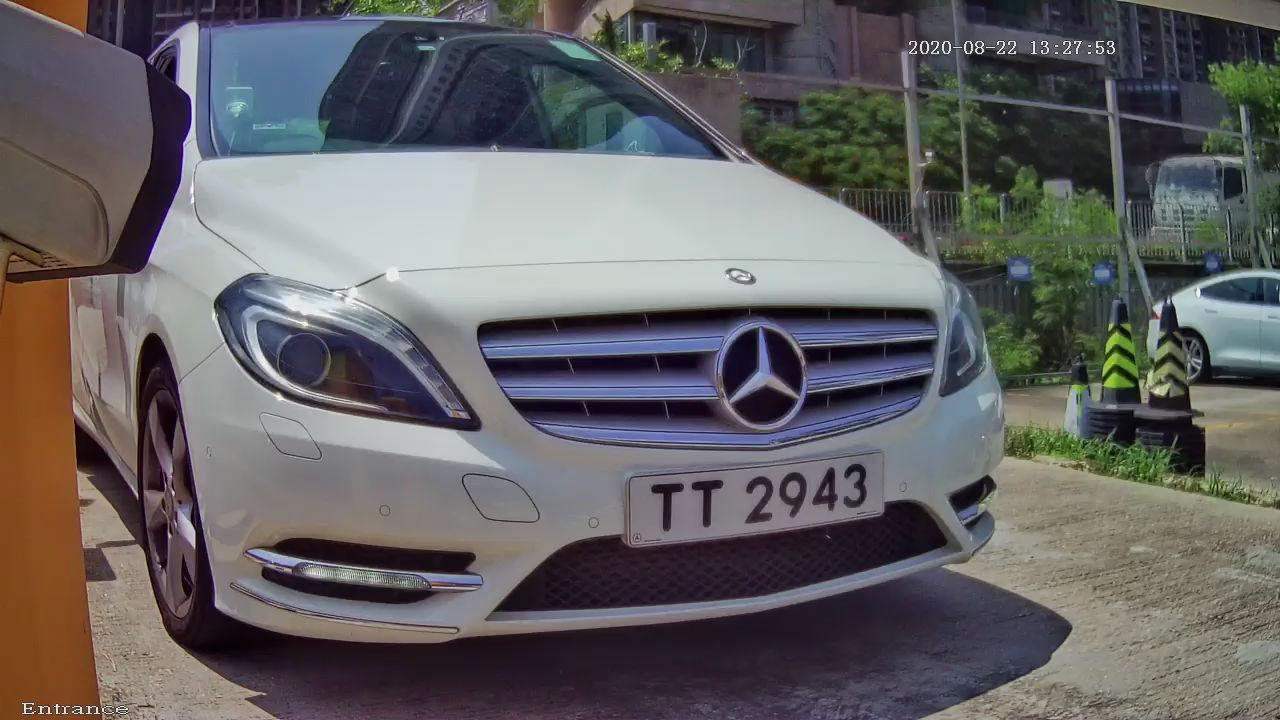Car: (35, 10, 1098, 708)
License Plate: (575, 398, 926, 576)
